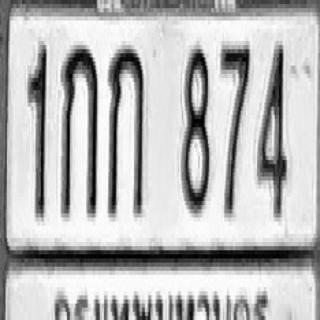A01: (60, 41, 97, 218), (107, 43, 144, 215)
N01: (27, 43, 47, 215)
N04: (256, 39, 286, 215)
N07: (220, 41, 250, 213)
N08: (181, 43, 210, 211)
